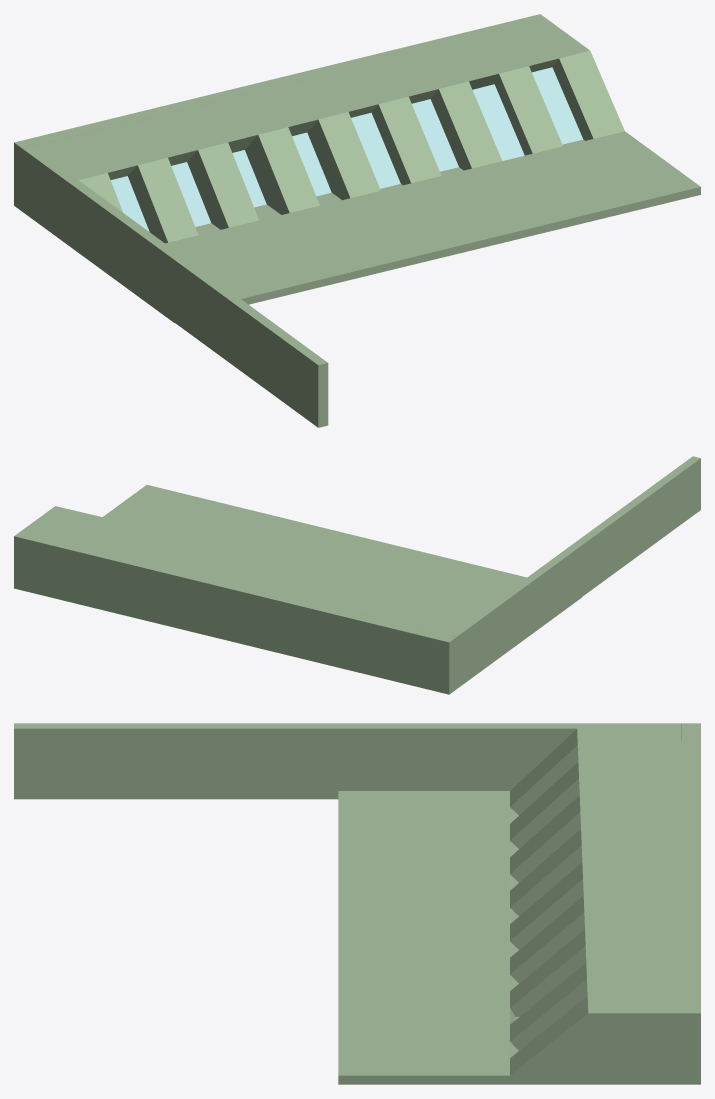
The model's file is simple_charging_station.glb.
3 views of the same model, one above another, from view 1: azimuth 30°, elevation 25°; view 2: azimuth 150°, elevation 25°; view 3: azimuth 270°, elevation 25° (orthographic). The views are drawn at different scales.
Parts seen in each view (by area): view 1: Cube; view 2: Cube; view 3: Cube.
Boxes of the visible parts, x1,y1,x2,y2 form: Cube: (14,14,700,427); Cube: (14,456,700,694); Cube: (14,723,700,1084).
Bounding box in the file's own units: 2 × 0.2902 × 2.
